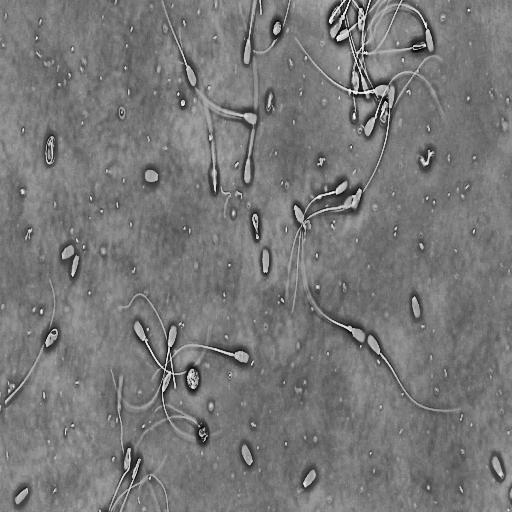coiled-tail: (45, 135, 55, 164), (46, 328, 58, 344)
dirt-particles: (185, 365, 201, 392), (418, 147, 436, 170), (194, 422, 210, 446), (271, 17, 282, 38)
distal-droplet: (317, 195, 322, 200)
folded-tail: (162, 371, 185, 436)
loose-head: (491, 451, 506, 482), (240, 441, 254, 469), (13, 485, 30, 507), (302, 467, 318, 490), (351, 186, 364, 213), (293, 203, 306, 227), (143, 167, 160, 185), (60, 242, 75, 262), (411, 294, 422, 321), (261, 246, 271, 275), (70, 252, 80, 280), (251, 211, 260, 241), (266, 90, 274, 112)
loose-tail: (1, 273, 58, 410), (117, 289, 178, 391)
normal: (313, 83, 396, 216), (301, 217, 366, 345), (366, 331, 465, 414), (291, 181, 348, 313), (292, 34, 391, 99), (362, 65, 446, 140), (110, 323, 178, 411), (175, 58, 257, 124), (133, 318, 211, 377), (191, 66, 220, 195), (152, 343, 250, 380), (369, 1, 436, 55), (160, 0, 199, 89), (340, 0, 371, 101), (160, 366, 198, 442), (243, 36, 259, 185), (108, 446, 132, 512), (358, 37, 428, 58), (44, 134, 57, 168), (44, 325, 59, 350)
proximal-droplet: (347, 325, 352, 331), (371, 89, 375, 94)
